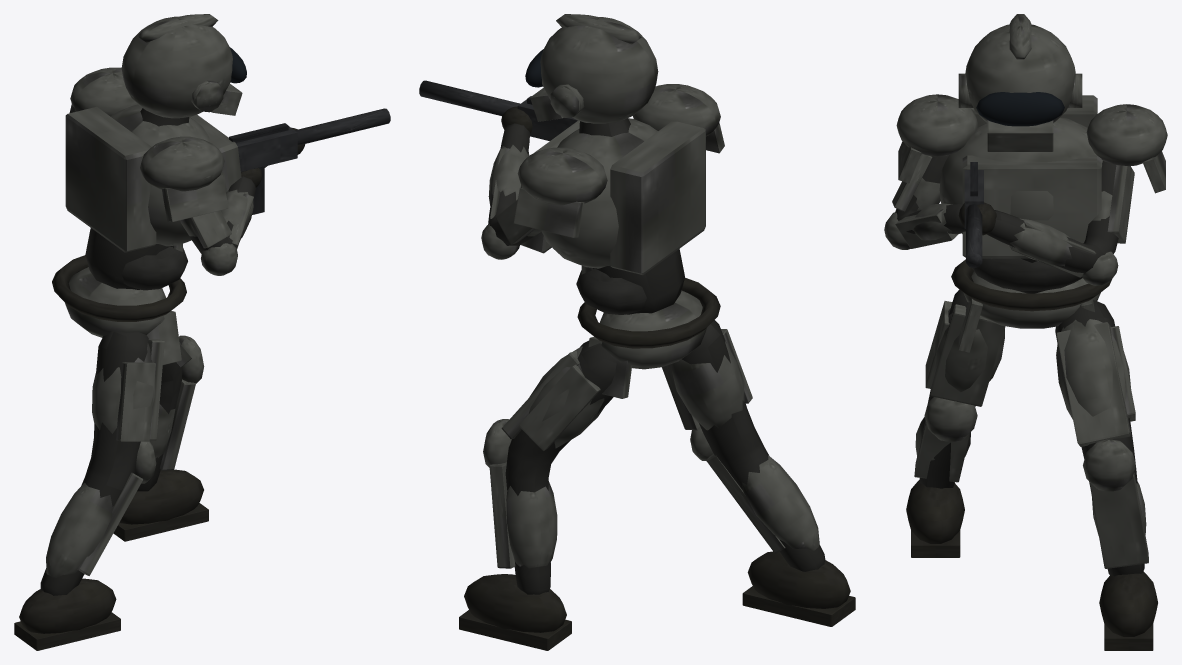
The model's file is unit_odst_0.glb.
3 views of the same model, side by side, from view 1: azimuth 30°, elevation 25°; view 2: azimuth 150°, elevation 25°; view 3: azimuth 270°, elevation 25° (orthographic). The views are drawn at different scales.
Parts seen in each view (by area): view 1: unit_odst_0; view 2: unit_odst_0; view 3: unit_odst_0.
Part boxes in pixels (x1,y1,x2,y2): unit_odst_0: [14, 14, 390, 650]; unit_odst_0: [419, 14, 855, 650]; unit_odst_0: [884, 14, 1167, 650].
Bounding box in the file's own units: 1.31 × 1.8 × 0.7841.
Materials: 6 (5 with a texture image).
